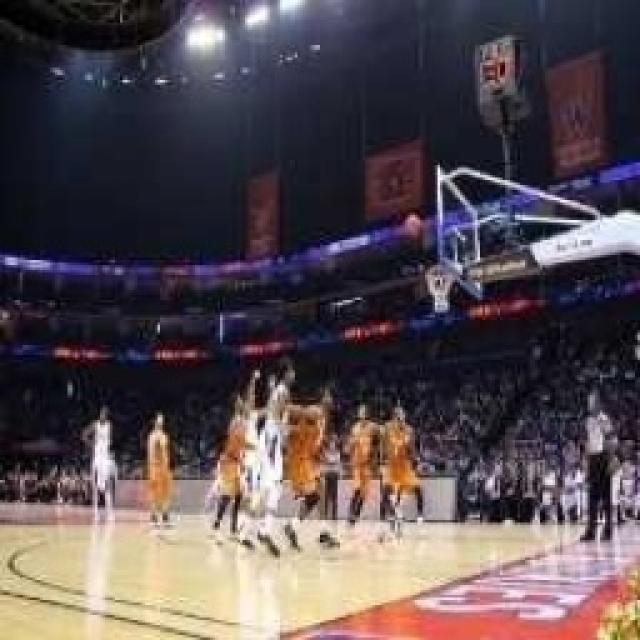rim: (404, 211, 424, 238)
